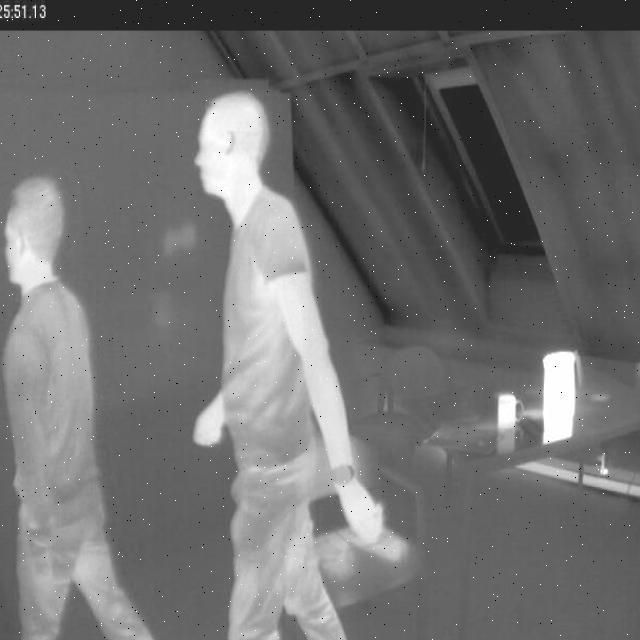person: (178, 54, 384, 640), (0, 173, 134, 640)
